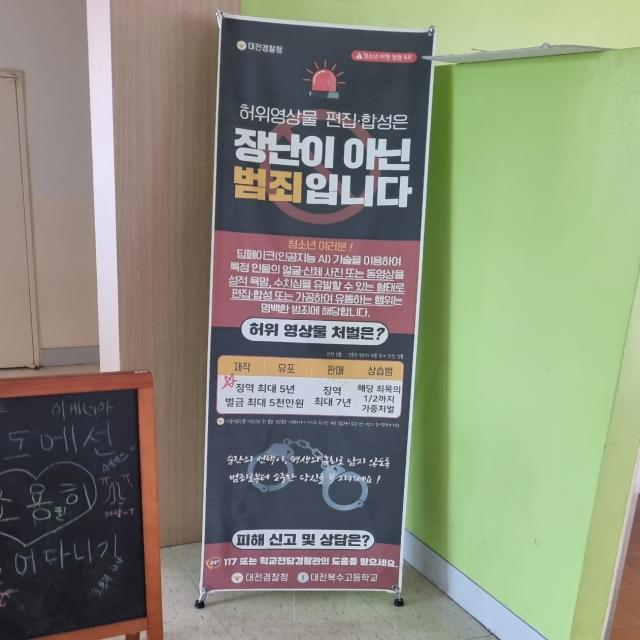logo: (298, 571, 310, 584)
